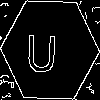U: (25, 25, 58, 73)
